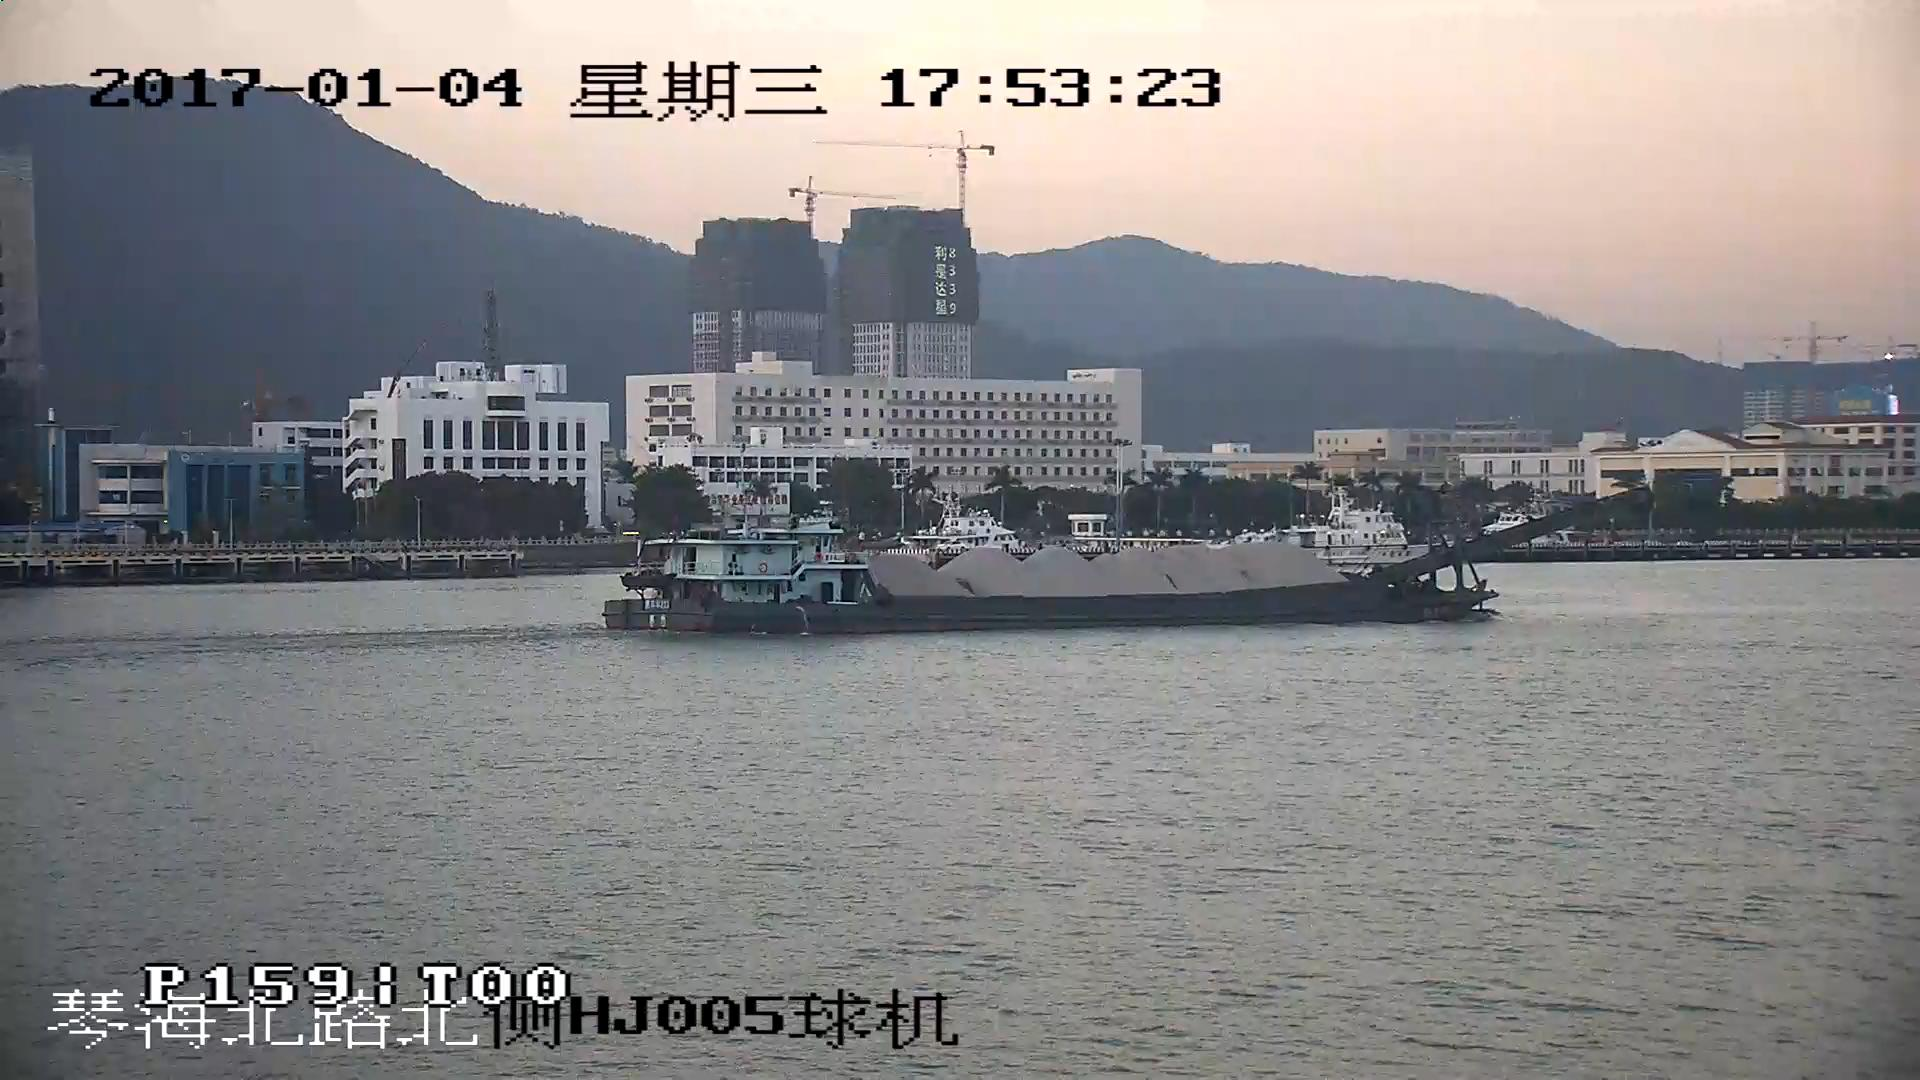ore carrier: (604, 494, 1640, 635)
